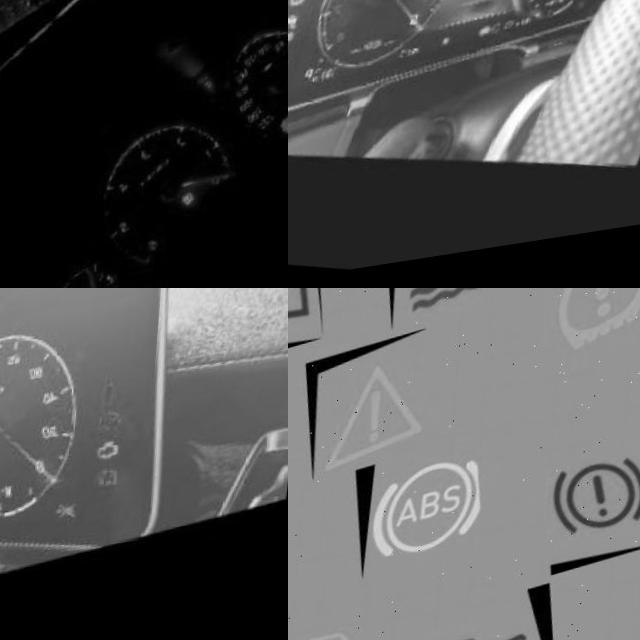Engine cooling system: (105, 262, 128, 288)
Low fuel level: (569, 6, 575, 14)
